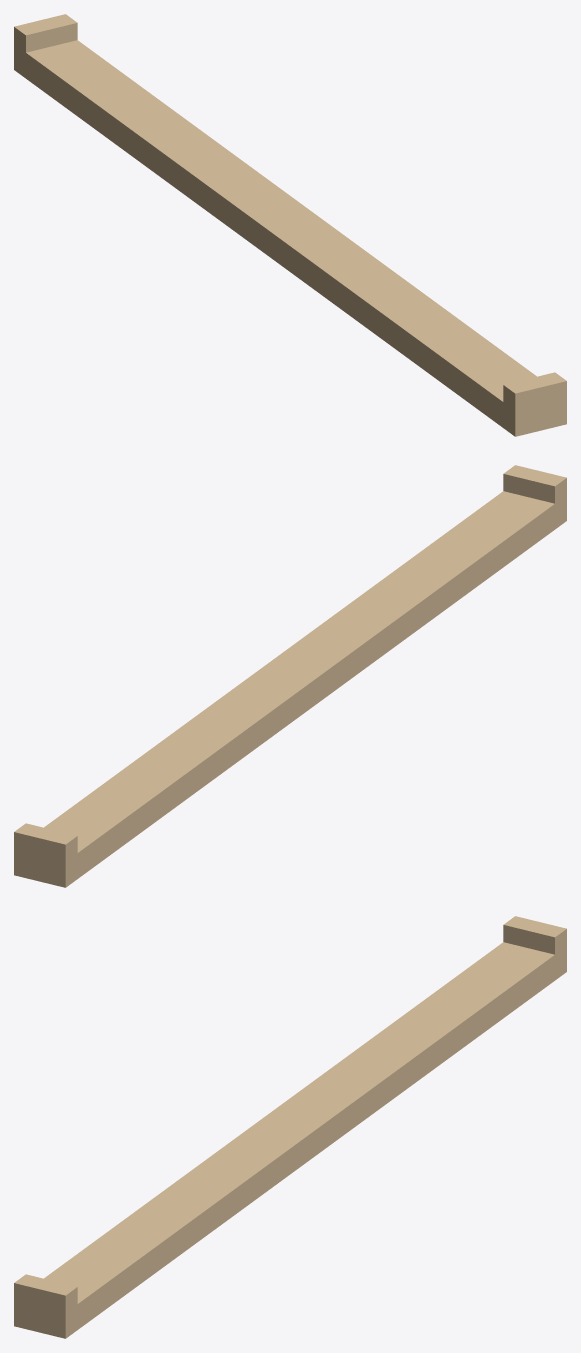
File: prop-shingle-gauge-stick-sg1.fbx
3 views of the same model, one above another, from view 1: azimuth 30°, elevation 25°; view 2: azimuth 150°, elevation 25°; view 3: azimuth 330°, elevation 25° (orthographic).
Parts seen in each view (by area): view 1: prop-shingle-gauge-stick-sg1; view 2: prop-shingle-gauge-stick-sg1; view 3: prop-shingle-gauge-stick-sg1.
Part boxes in pixels (x1=…): prop-shingle-gauge-stick-sg1: x1=14, y1=14, x2=566, y2=436; prop-shingle-gauge-stick-sg1: x1=14, y1=465, x2=566, y2=887; prop-shingle-gauge-stick-sg1: x1=14, y1=916, x2=566, y2=1338.
Bounding box in the file's own units: 2.5 × 2 × 42.
